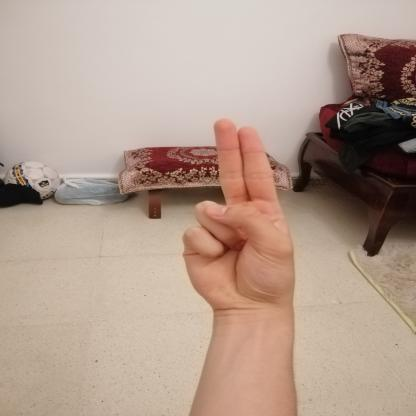TA: (167, 111, 308, 322)
